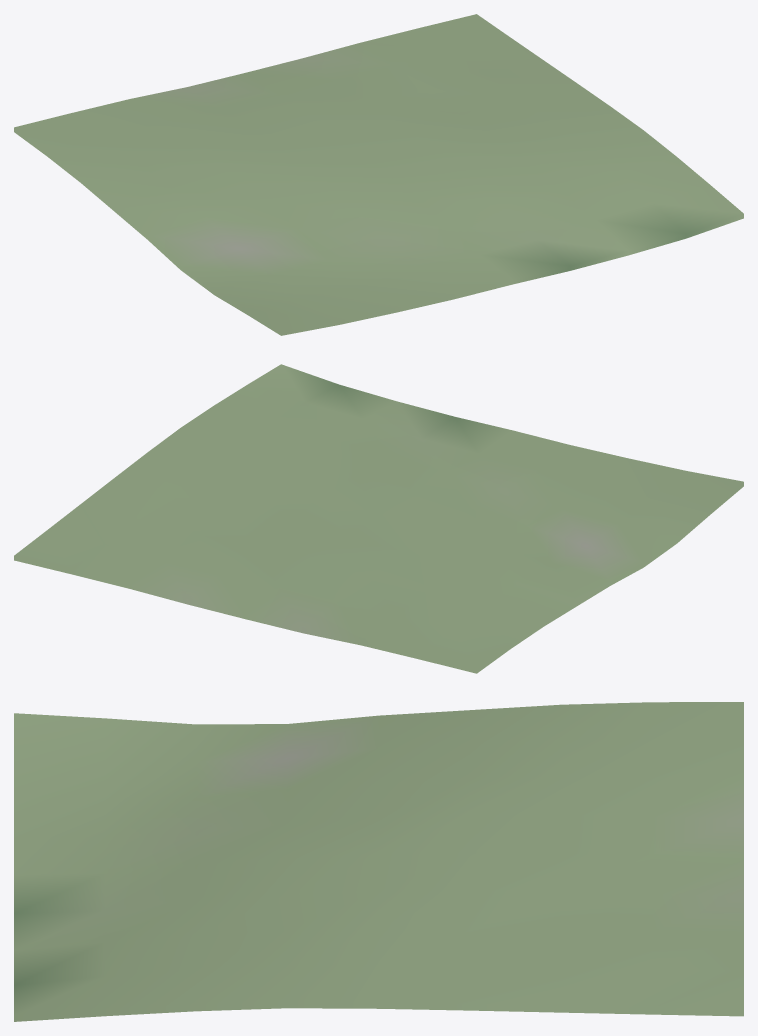
The picture shows the model from 3 angles, top to bottom: view 1: azimuth 30°, elevation 25°; view 2: azimuth 150°, elevation 25°; view 3: azimuth 270°, elevation 25°; orthographic projection. The views are drawn at different scales.
Visible parts, largest first — view 1: prim0; view 2: prim0; view 3: prim0.
Part boxes in pixels (x1,y1,x2,y2): prim0: [14, 14, 743, 335]; prim0: [14, 364, 743, 673]; prim0: [14, 702, 743, 1021].
Bounding box in the file's own units: 512 × 29.11 × 512.
